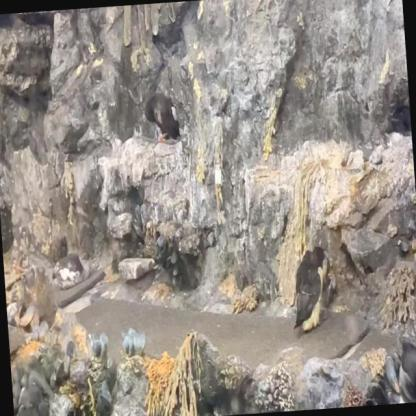puffin: (286, 243, 335, 336), (143, 90, 181, 144), (388, 340, 416, 404), (387, 91, 411, 134)
